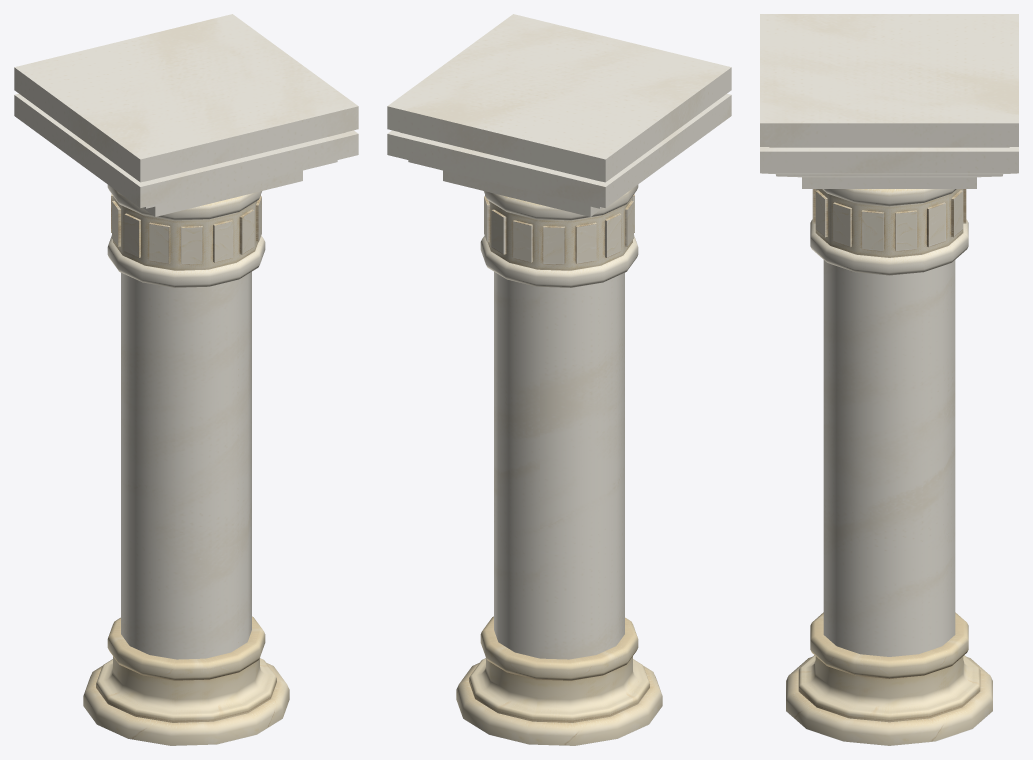
File: Pillar.fbx
The picture shows the model from 3 angles, left to right: view 1: azimuth 30°, elevation 25°; view 2: azimuth 150°, elevation 25°; view 3: azimuth 270°, elevation 25°; orthographic projection. The views are drawn at different scales.
Visible parts, largest first — view 1: Pillar; view 2: Pillar; view 3: Pillar.
Boxes of the visible parts, <box> form: Pillar: <box>14,14,358,745</box>; Pillar: <box>387,14,731,745</box>; Pillar: <box>760,14,1018,745</box>.
Bounding box in the file's own units: 1.63 × 4.38 × 1.63.
